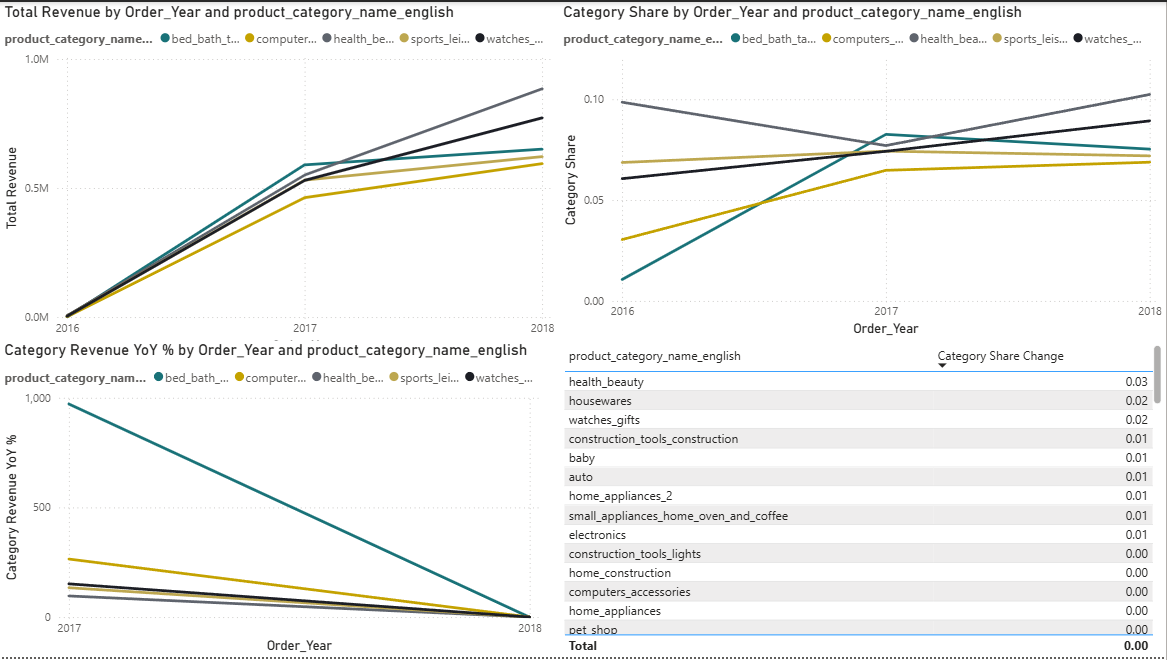

What the dashboard file says about the page in this screenshot:
{"tool":"powerbi","page":{"name":"Cannibalization Diagnostics","canvas":[1280,720],"ordinal":1},"visuals":[{"type":"lineChart","fields":{"Category":["olist_orders_dataset.Order_Year"],"Series":["product_category_name_translation.product_category_name_english"],"Y":["olist_order_items_dataset.Category Share"]},"box":[456.9,0,525.6,266.2],"z":0},{"type":"lineChart","fields":{"Series":["product_category_name_translation.product_category_name_english"],"Category":["olist_orders_dataset.Order_Year"],"Y":["olist_order_items_dataset.Total Revenue"]},"box":[0,0,456.9,289.5],"z":1},{"type":"lineChart","fields":{"Y":["olist_order_items_dataset.Category Revenue YoY %"],"Category":["olist_orders_dataset.Order_Year"],"Series":["product_category_name_translation.product_category_name_english"]},"box":[0,300.5,485.8,286.8],"z":2},{"type":"tableEx","fields":{"Values":["product_category_name_translation.product_category_name_english","olist_order_items_dataset.Category Share Change"]},"box":[485.8,300.5,516,288.2],"z":3}]}

Visuals, with their boxes in screenshot pixels (x1, y1, x2, y2), scaled from the page's 1280x720 canvas onto the 1167x660 screenshot:
lineChart - olist_orders_dataset.Order_Year x product_category_name_translation.product_category_name_english: 417/0/896/244
lineChart - product_category_name_translation.product_category_name_english x olist_orders_dataset.Order_Year: 0/0/417/265
lineChart - olist_order_items_dataset.Category Revenue YoY % x olist_orders_dataset.Order_Year: 0/275/443/538
tableEx - product_category_name_translation.product_category_name_english x olist_order_items_dataset.Category Share Change: 443/275/913/540
